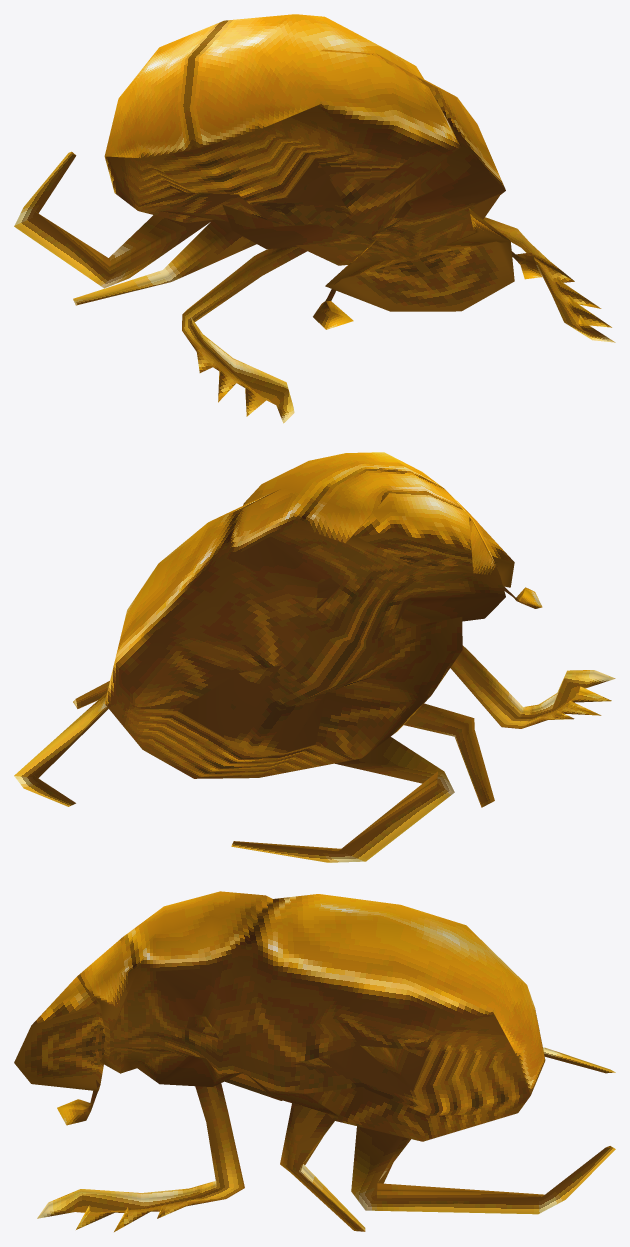
The model's file is ps2_save-icons_kowloonrecharge.glb.
3 views of the same model, one above another, from view 1: azimuth 30°, elevation 25°; view 2: azimuth 150°, elevation 25°; view 3: azimuth 270°, elevation 25° (orthographic). The views are drawn at different scales.
Visible parts, largest first — view 1: test.ico; view 2: test.ico; view 3: test.ico.
Part boxes in pixels (bbox=[...]): test.ico: bbox=[14, 14, 615, 423]; test.ico: bbox=[14, 452, 615, 862]; test.ico: bbox=[14, 891, 615, 1231].
Bounding box in the file's own units: 3.28 × 1.87 × 4.23.
Materials: 1 (1 with a texture image).
